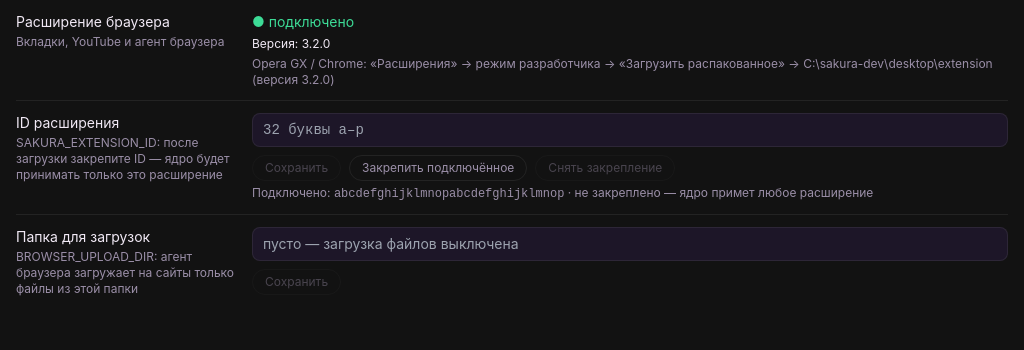
Test: закрепить ID подключённого расширения — SAKURA_EXTENSION_ID
Check: the text "не закреплено" is shown, box [574,185,873,200]
Click the button "Закрепить подключённое".
click(438, 168)  # box [349,155,527,181]
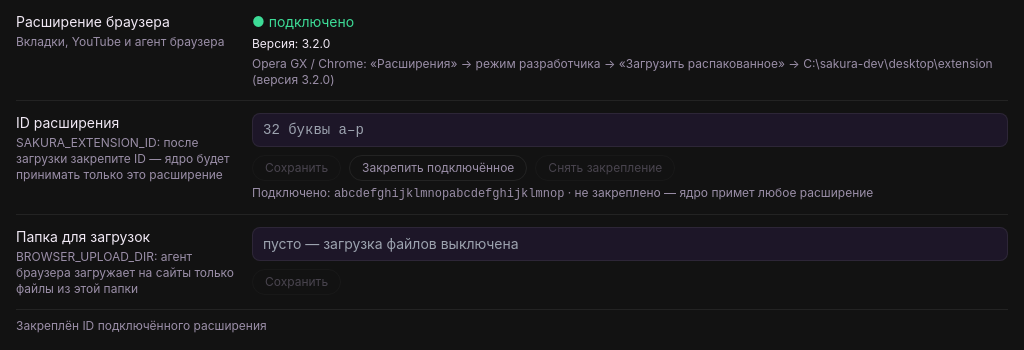
Check: the message shows "Закреплён ID", box [16,318,267,333]
